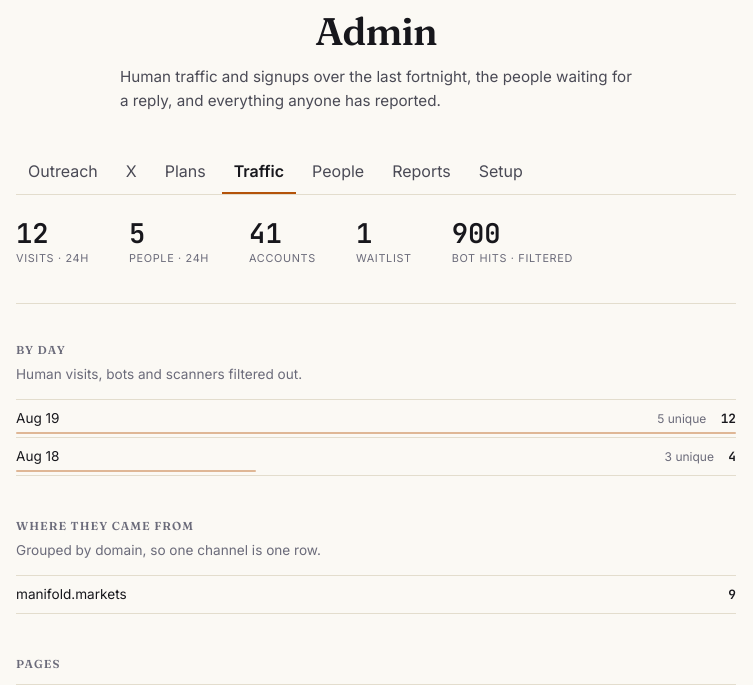
Scenario: /admin › shows the platform admin traffic, signups, waitlist and reports
This screenshot has width=753, height=685.
Expected: the text "41" is shown, [249,215,282,251]
Expected: the text "manifold.markets" is shown, [16,586,127,602]
What coordinates should you click on to do the following:
click the button "Reports"
I would click on:
 (422, 172)
Its box is [380,151,463,194].
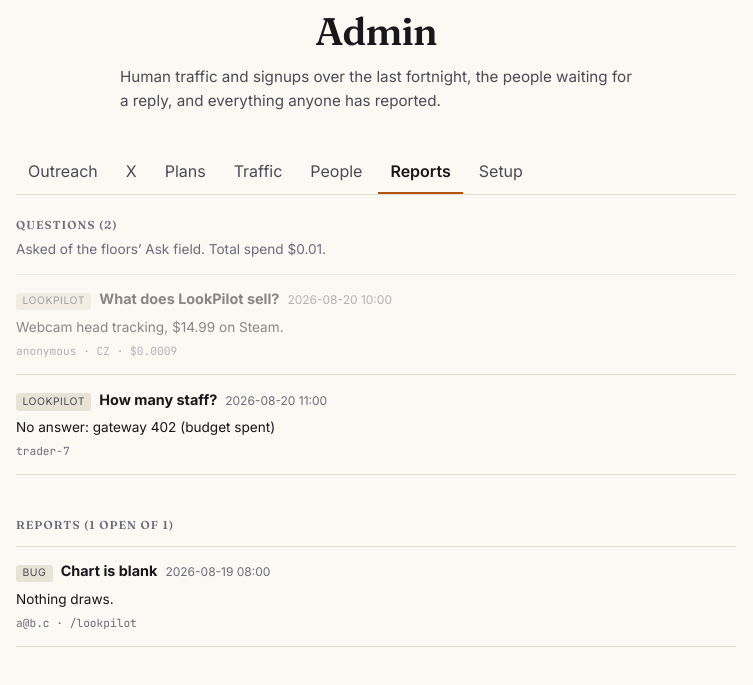
Result: the text "Chart is blank" is shown at [61,560,157,583]
Result: the text "Nothing draws." is shown at [16,591,114,607]
